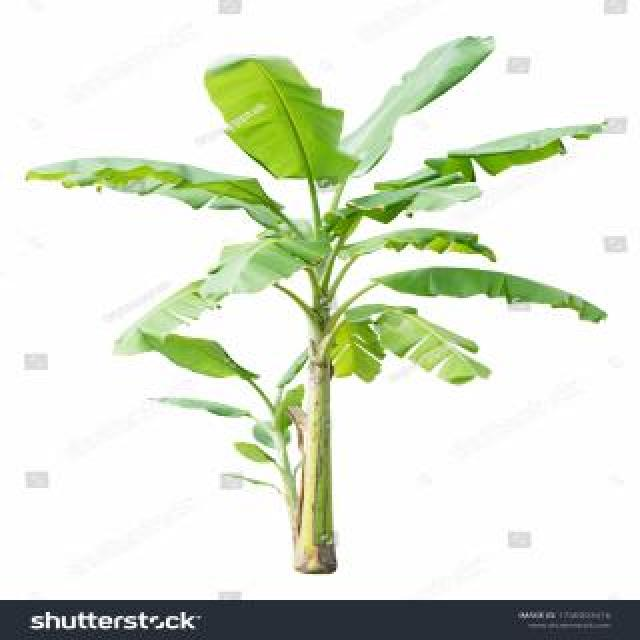Pisang: (40, 44, 585, 575)
